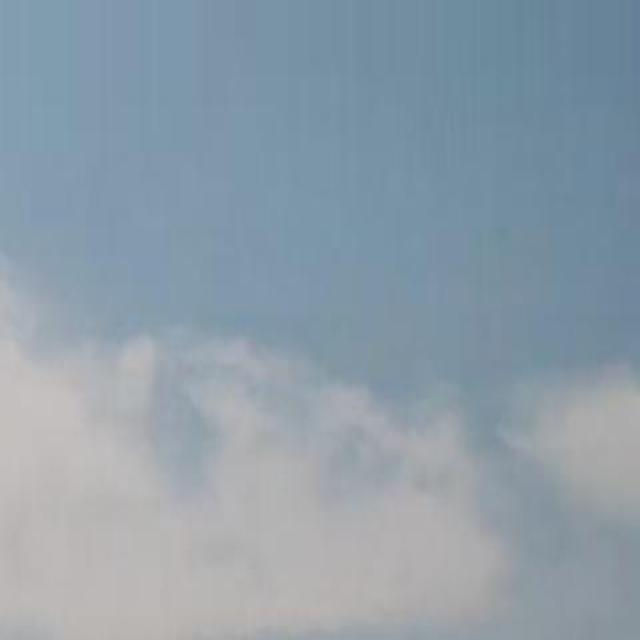other: (27, 298, 470, 581)
